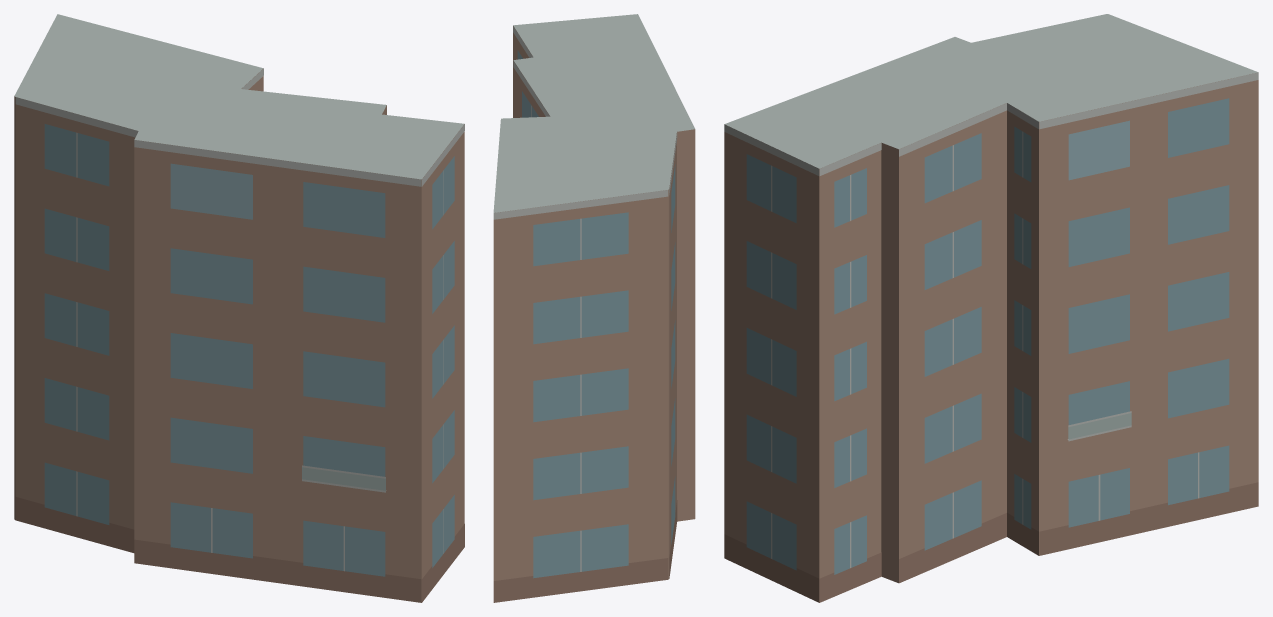
The model's file is survey-upis-32896242.glb.
3 renders of one model, left to right at view 1: azimuth 30°, elevation 25°; view 2: azimuth 150°, elevation 25°; view 3: azimuth 270°, elevation 25°, orthographic. The views are drawn at different scales.
Parts seen in each view (by area): view 1: survey-upis-32896242.tmp; view 2: survey-upis-32896242.tmp; view 3: survey-upis-32896242.tmp.
Part boxes in pixels (bbox=[...]): survey-upis-32896242.tmp: bbox=[14, 14, 464, 602]; survey-upis-32896242.tmp: bbox=[493, 14, 695, 602]; survey-upis-32896242.tmp: bbox=[724, 14, 1258, 602].
Bounding box in the file's own units: 10.72 × 14 × 15.63.
